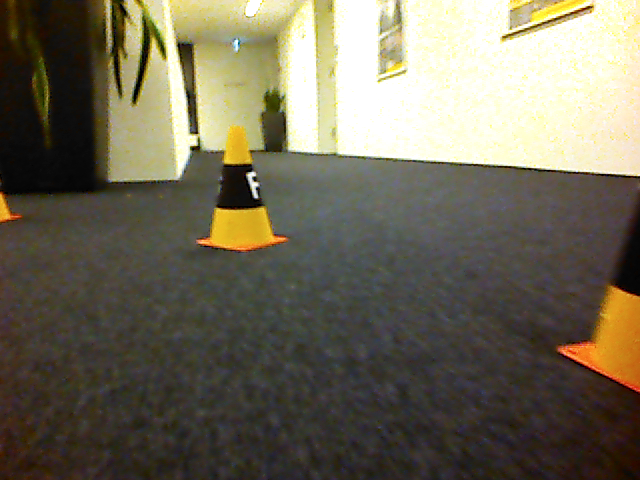yellowcone: (196, 123, 290, 253)
